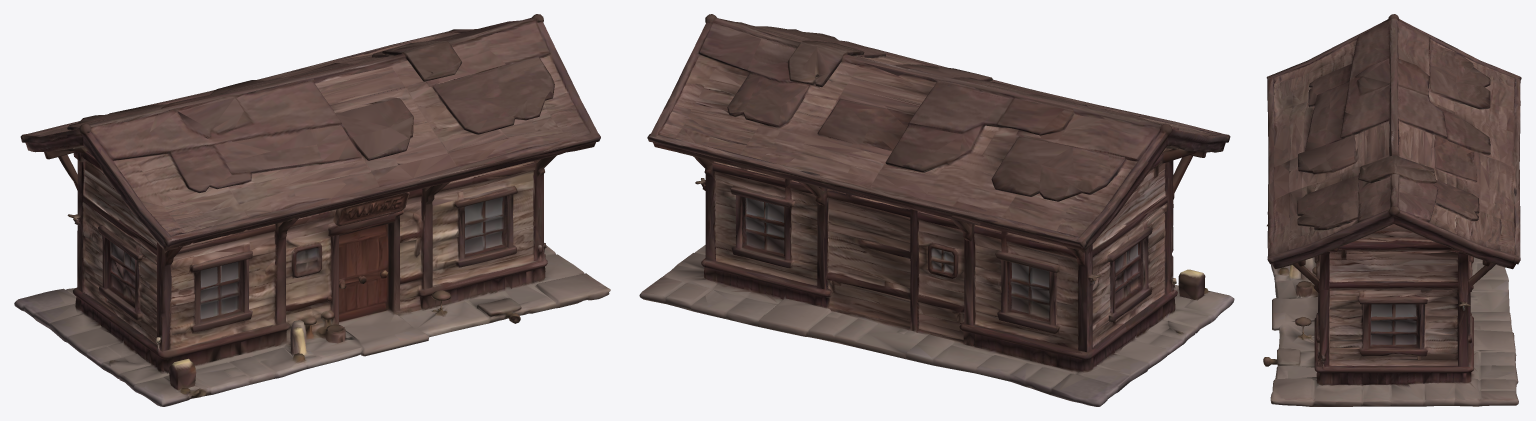
File: bld_west_depot.fbx
The picture shows the model from 3 angles, left to right: view 1: azimuth 30°, elevation 25°; view 2: azimuth 150°, elevation 25°; view 3: azimuth 270°, elevation 25°; orthographic projection. The views are drawn at different scales.
Parts seen in each view (by area): view 1: bld_west_depot_LOD0; view 2: bld_west_depot_LOD0; view 3: bld_west_depot_LOD0.
Boxes of the visible parts, <box> form: bld_west_depot_LOD0: <box>14,14,610,406</box>; bld_west_depot_LOD0: <box>639,14,1234,406</box>; bld_west_depot_LOD0: <box>1263,14,1521,406</box>.
Size of what is drawn, in the model's own units: 0.9792 by 0.4708 by 0.5467.
